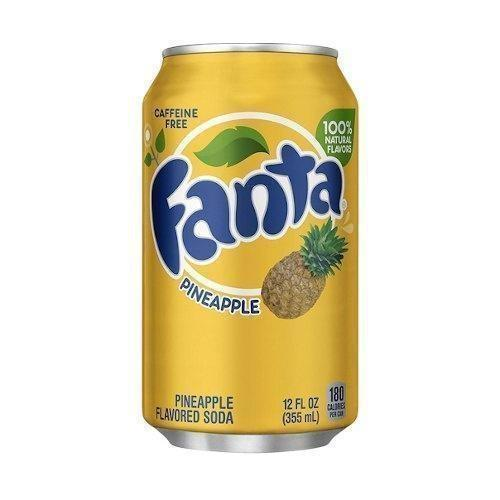tin can: (141, 39, 362, 450)
